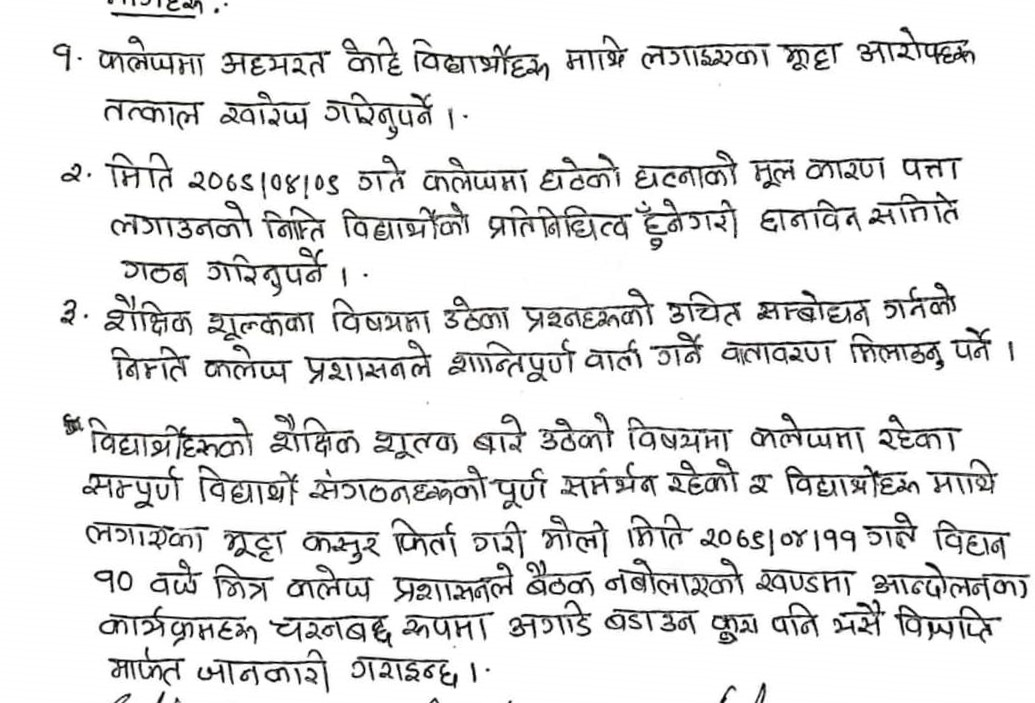text: (85, 412, 256, 462), (307, 460, 488, 507), (93, 602, 260, 648), (407, 34, 554, 84), (107, 195, 256, 244), (521, 285, 660, 334), (867, 560, 1033, 601), (318, 85, 439, 141), (602, 556, 748, 601), (194, 648, 333, 695), (204, 248, 326, 299), (300, 340, 433, 386), (388, 560, 517, 607), (484, 203, 631, 244), (337, 202, 475, 245), (782, 460, 921, 502), (447, 341, 576, 385), (639, 196, 741, 251), (92, 34, 208, 81), (184, 167, 346, 200), (747, 412, 864, 457), (855, 25, 976, 68), (624, 412, 737, 458), (698, 521, 860, 553), (194, 462, 300, 510), (630, 146, 740, 192), (81, 461, 184, 510), (418, 154, 532, 198), (638, 36, 772, 73), (756, 287, 873, 329), (892, 602, 998, 648), (268, 608, 396, 646), (325, 294, 435, 338), (265, 410, 362, 458), (83, 516, 205, 554), (843, 331, 948, 375), (100, 88, 204, 132), (215, 43, 333, 81), (199, 340, 294, 387), (97, 294, 198, 338), (349, 652, 460, 691), (217, 88, 314, 132), (105, 341, 191, 390), (504, 599, 597, 644), (202, 308, 317, 344), (758, 198, 864, 237), (876, 410, 964, 456), (533, 152, 627, 194), (864, 188, 960, 228), (714, 335, 834, 367), (284, 563, 375, 603), (556, 466, 659, 501), (537, 411, 617, 456), (930, 515, 1010, 560), (599, 603, 701, 637), (663, 457, 740, 502), (294, 525, 385, 563), (400, 610, 496, 646), (102, 150, 176, 196), (106, 649, 185, 692), (662, 287, 744, 328), (371, 424, 459, 461), (883, 282, 960, 323), (338, 32, 405, 79), (438, 292, 512, 334), (522, 559, 598, 599), (802, 153, 891, 187), (754, 567, 857, 596), (389, 516, 459, 558), (924, 460, 999, 499), (583, 332, 646, 378), (258, 204, 330, 244), (561, 32, 627, 75), (779, 34, 846, 76), (207, 563, 274, 604), (493, 463, 550, 511), (622, 510, 687, 552), (115, 256, 190, 292), (469, 411, 529, 456), (539, 516, 610, 554), (826, 596, 885, 640), (650, 327, 708, 369), (862, 509, 918, 552), (468, 519, 529, 558), (355, 152, 409, 196), (768, 601, 824, 642), (218, 527, 285, 561), (147, 558, 202, 599), (706, 607, 763, 645), (894, 152, 963, 183), (747, 156, 798, 193), (949, 327, 996, 365), (90, 565, 139, 595), (742, 473, 773, 502)
